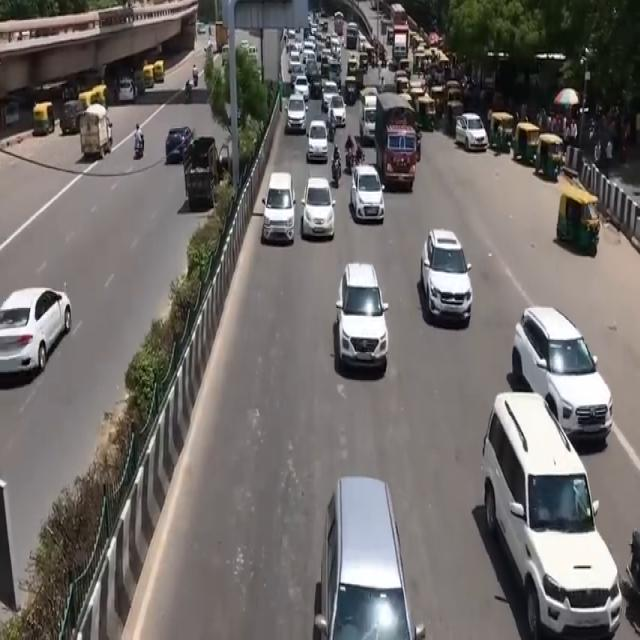TRUCK: (378, 96, 421, 193)
